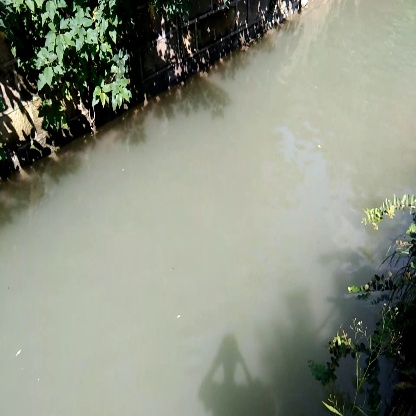grass: (31, 8, 138, 116)
